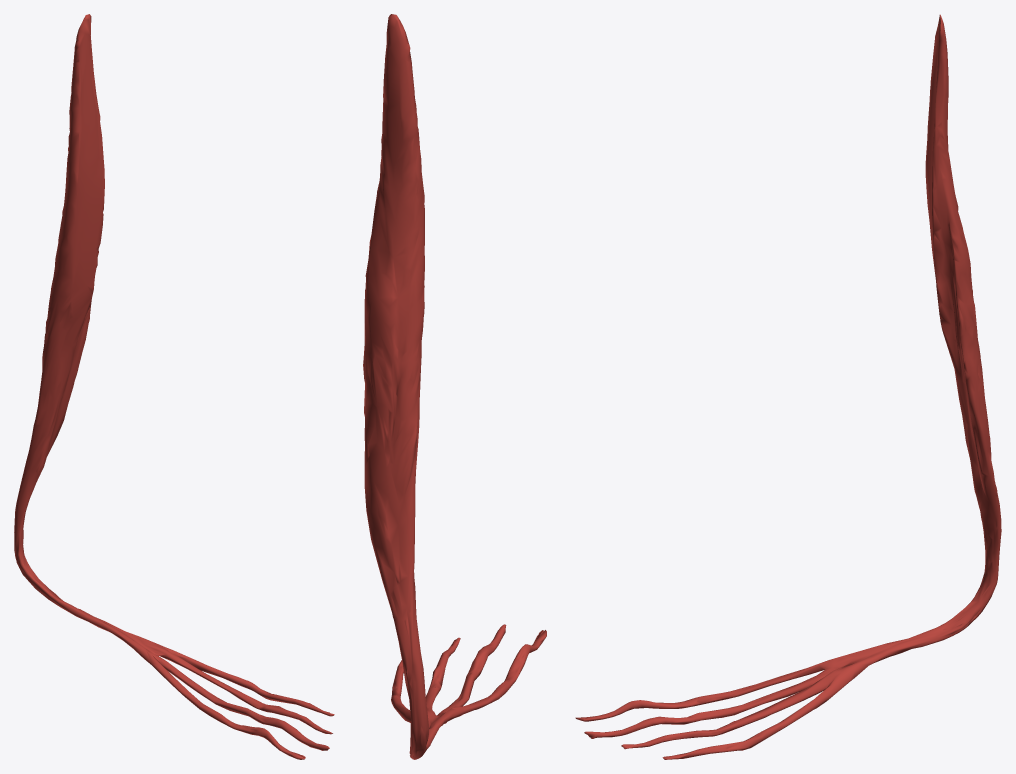
File: musculos-flexor-digitorum-longus-l.glb
The picture shows the model from 3 angles, left to right: view 1: azimuth 30°, elevation 25°; view 2: azimuth 150°, elevation 25°; view 3: azimuth 270°, elevation 25°; orthographic projection. The views are drawn at different scales.
Visible parts, largest first — view 1: Flexor digitorum longus.l; view 2: Flexor digitorum longus.l; view 3: Flexor digitorum longus.l.
Boxes of the visible parts, box(x1,y1,x2,y2) form: Flexor digitorum longus.l: box(14, 14, 334, 759); Flexor digitorum longus.l: box(363, 14, 546, 759); Flexor digitorum longus.l: box(575, 14, 1001, 759).
Size of the model in its own units: 0.0944 by 0.3436 by 0.1931.
